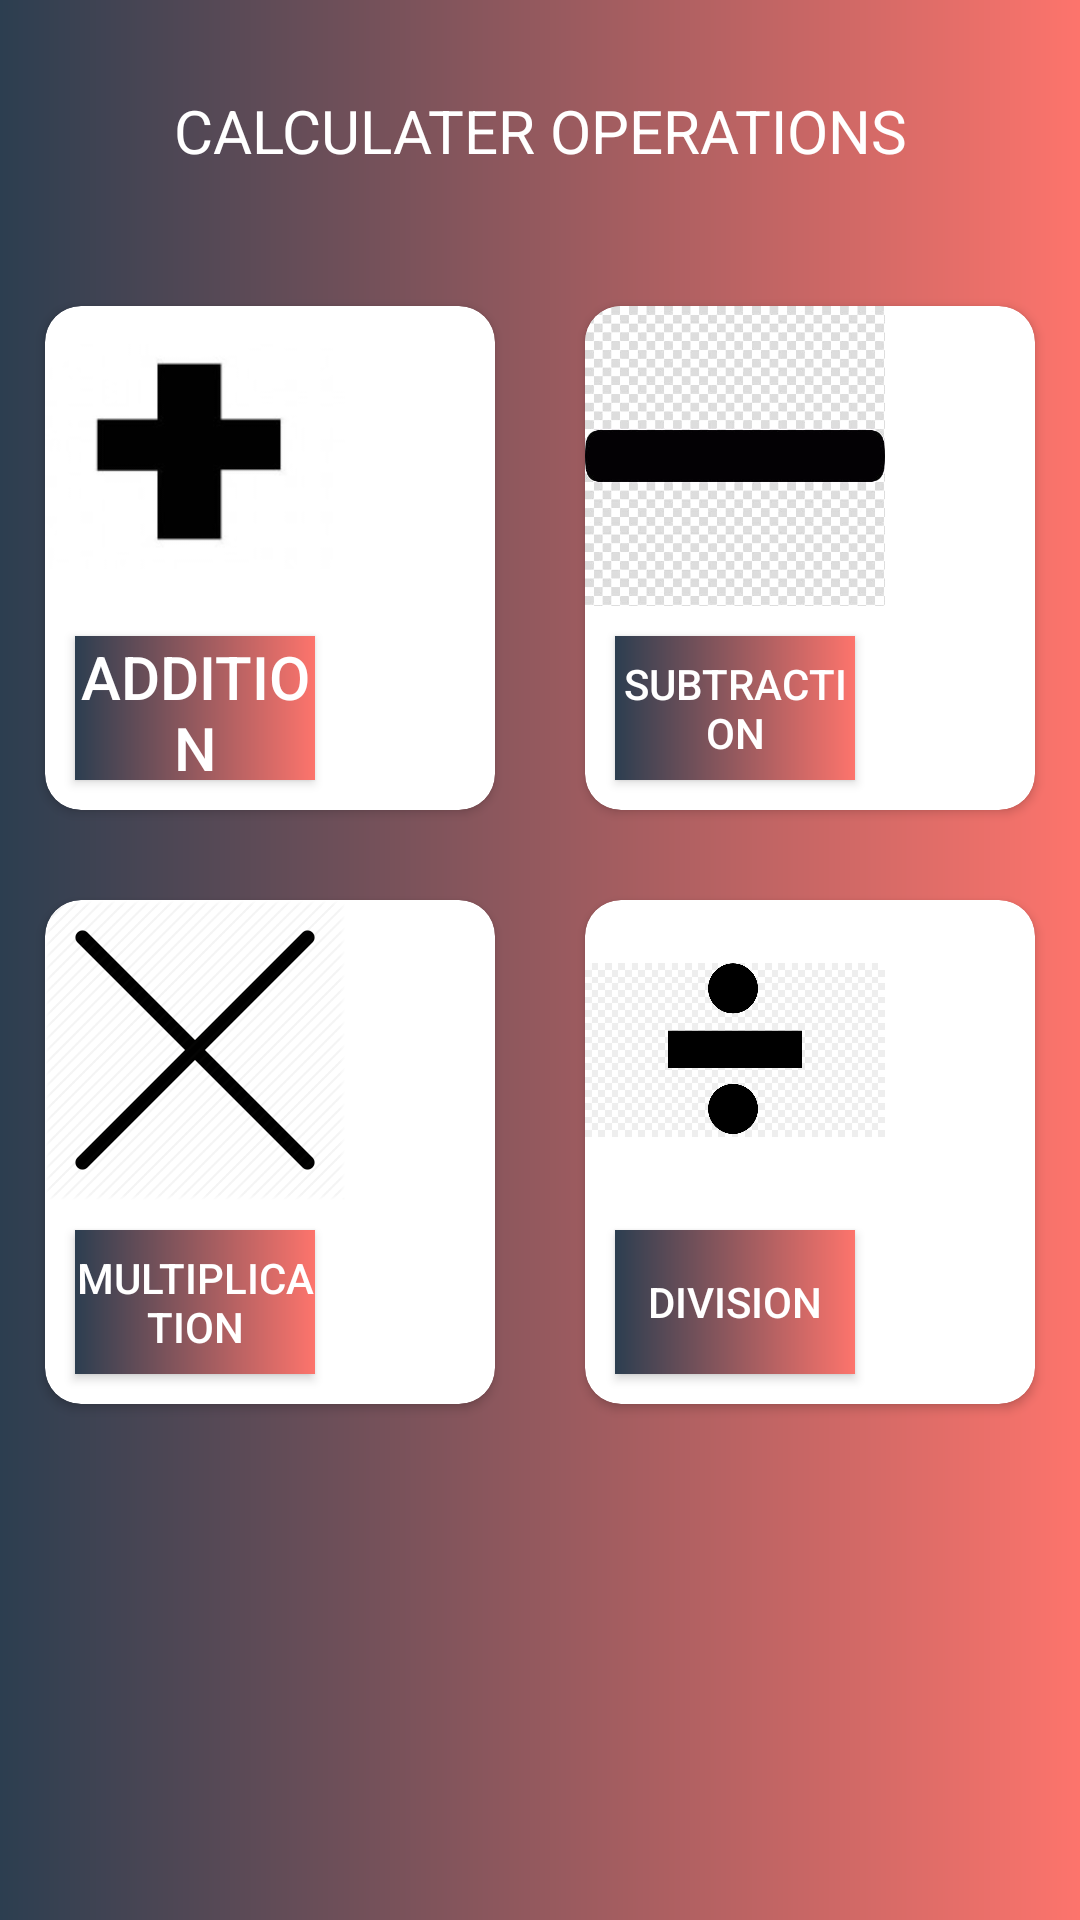

Named icons in this screenshot (1080 × 1920) and their bounding boxes, (x1, y1, x2, y2):
add: (96, 362, 281, 541)
div: (668, 963, 802, 1134)
mul: (75, 930, 315, 1170)
